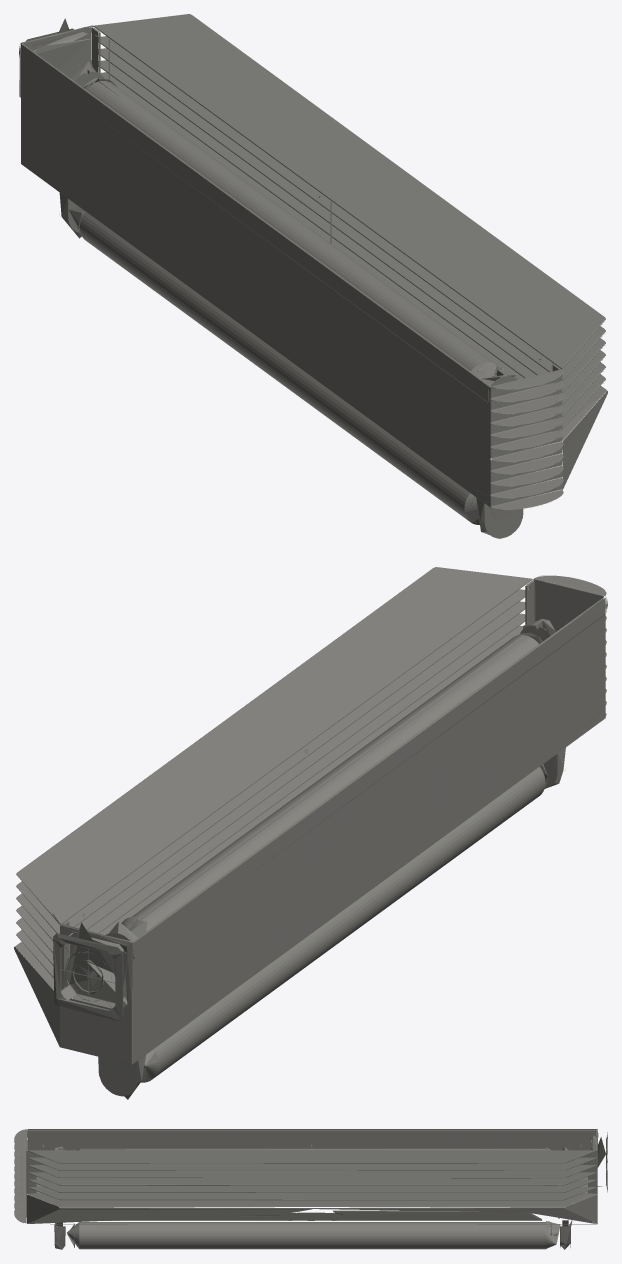
File: lamp_uvc_b01.glb
3 renders of one model, top to bottom at view 1: azimuth 30°, elevation 25°; view 2: azimuth 150°, elevation 25°; view 3: azimuth 270°, elevation 25°, orthographic. The views are drawn at different scales.
Parts seen in each view (by area): view 1: geometry_0; view 2: geometry_0; view 3: geometry_0.
Part boxes in pixels (<box>): geometry_0: <box>19,14,607,538</box>; geometry_0: <box>14,567,607,1099</box>; geometry_0: <box>14,1129,607,1249</box>.
Bounding box in the file's own units: 0.0729 × 0.0936 × 0.42.
Materials: 1 (1 with a texture image).
